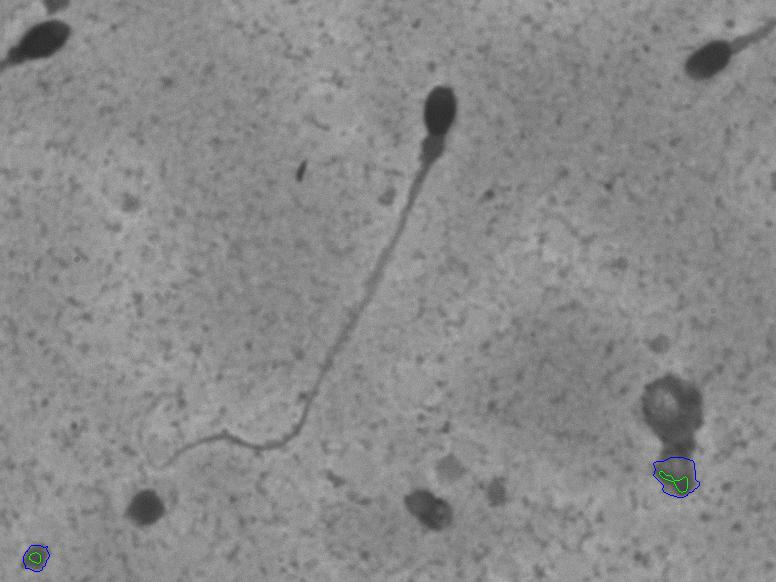Abnormal: (129, 65, 471, 480), (664, 10, 756, 111)
